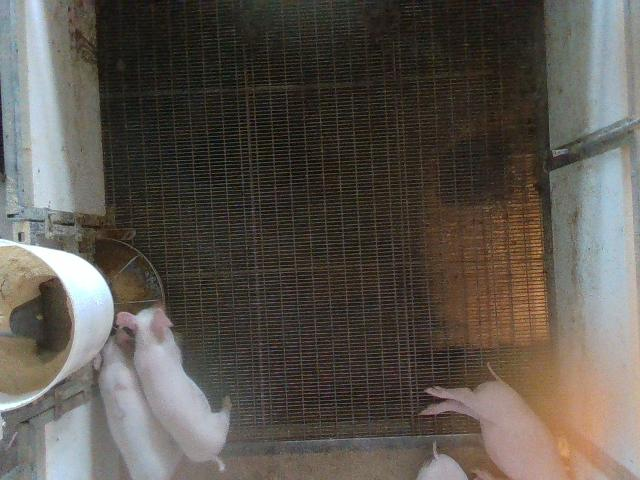pig-5: (94, 330, 182, 479)
